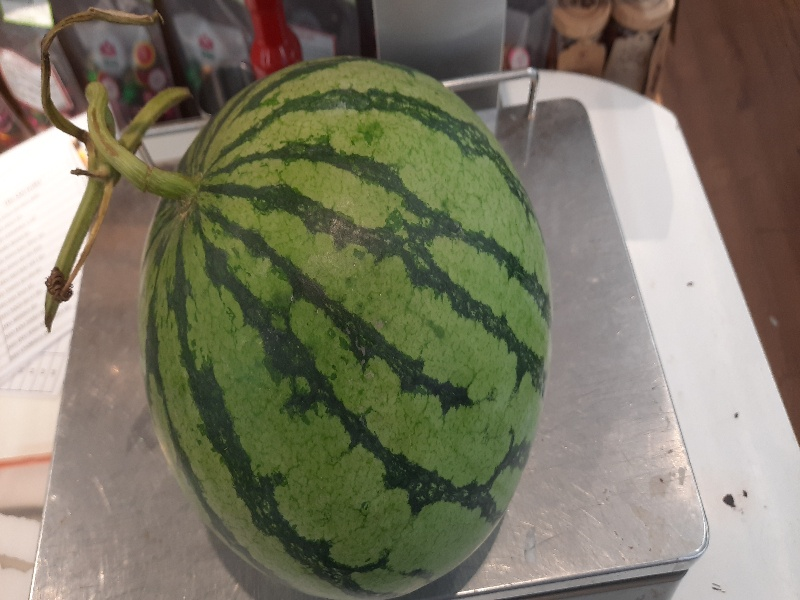fruit: (61, 51, 560, 600)
